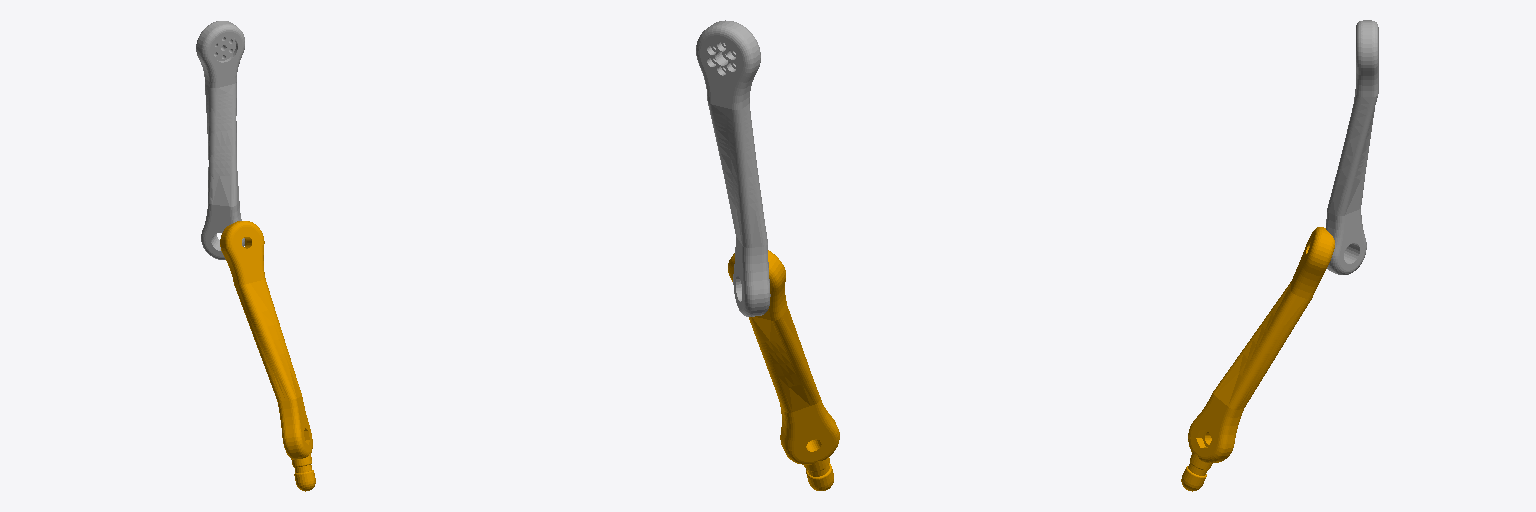
robot.urdf — robot:
<?xml version="1.0" encoding="utf-8"?>
<!-- =================================================================================== -->
<!-- |    This document was autogenerated by xacro from test.urdf.xacro                | -->
<!-- |    EDITING THIS FILE BY HAND IS NOT RECOMMENDED                                 | -->
<!-- =================================================================================== -->
<robot>
  <link name="base"/>
  <link name="0-xm430_0">
    <inertial>
      <origin rpy="0 0 0" xyz="-4.0773796e-3 -1.5304911e-2 -1.6871895e-2"/>
      <mass value="0.082"/>
      <inertia ixx="2.3729564e-5" ixy="-1.3079758e-7" ixz="-8.1403365e-8" iyy="1.3112295e-5" iyz="-1.9659314e-6" izz="2.0942871e-5"/>
    </inertial>
    <visual>
      <origin rpy="0.0 0.0 0.0" xyz="0.0 0.0 0.0"/>
      <geometry>
        <mesh filename="./mesh/general/XM430-simplified.stl" scale="0.001 0.001 0.001"/>
      </geometry>
    </visual>
    <collision>
      <origin rpy="0.0 0.0 0.0" xyz="0.0 0.0 0.0"/>
      <geometry>
        <mesh filename="./mesh/general/XM430-simplified.stl" scale="0.001 0.001 0.001"/>
      </geometry>
    </collision>
  </link>
  <link name="0-xm430_1">
    <inertial>
      <origin rpy="0 0 0" xyz="-4.0773796e-3 -1.5304911e-2 -1.6871895e-2"/>
      <mass value="0.082"/>
      <inertia ixx="2.3729564e-5" ixy="-1.3079758e-7" ixz="-8.1403365e-8" iyy="1.3112295e-5" iyz="-1.9659314e-6" izz="2.0942871e-5"/>
    </inertial>
    <visual>
      <origin rpy="0.0 0.0 0.0" xyz="0.0 0.0 0.0"/>
      <geometry>
        <mesh filename="./mesh/general/XM430-simplified.stl" scale="0.001 0.001 0.001"/>
      </geometry>
    </visual>
    <collision>
      <origin rpy="0.0 0.0 0.0" xyz="0.0 0.0 0.0"/>
      <geometry>
        <mesh filename="./mesh/general/XM430-simplified.stl" scale="0.001 0.001 0.001"/>
      </geometry>
    </collision>
  </link>
  <link name="0-xm430_2">
    <inertial>
      <origin rpy="0 0 0" xyz="-4.0773796e-3 -1.5304911e-2 -1.6871895e-2"/>
      <mass value="0.082"/>
      <inertia ixx="2.3729564e-5" ixy="-1.3079758e-7" ixz="-8.1403365e-8" iyy="1.3112295e-5" iyz="-1.9659314e-6" izz="2.0942871e-5"/>
    </inertial>
    <visual>
      <origin rpy="0.0 0.0 0.0" xyz="0.0 0.0 0.0"/>
      <geometry>
        <mesh filename="./mesh/general/XM430-simplified.stl" scale="0.001 0.001 0.001"/>
      </geometry>
    </visual>
    <collision>
      <origin rpy="0.0 0.0 0.0" xyz="0.0 0.0 0.0"/>
      <geometry>
        <mesh filename="./mesh/general/XM430-simplified.stl" scale="0.001 0.001 0.001"/>
      </geometry>
    </collision>
  </link>
  <link name="0-base_motor_frame">
    <inertial>
      <origin rpy="0 0 0" xyz="6.48e-08 -0.0015864406 0.0250889877"/>
      <mass value="0.0768049156"/>
      <inertia ixx="5.65659e-05" ixy="-0.0" ixz="1e-10" iyy="5.30145e-05" iyz="1.1663e-06" izz="3.40217e-05"/>
    </inertial>
    <visual>
      <origin rpy="0 0 0" xyz="0 0 0"/>
      <geometry>
        <mesh filename="./mesh/general/base_motor_frame_simplified.stl" scale="0.001 0.001 0.001"/>
      </geometry>
    </visual>
    <collision>
      <origin rpy="0 0 0" xyz="0 0 0"/>
      <geometry>
        <mesh filename="./mesh/general/base_motor_frame_simplified.stl" scale="0.001 0.001 0.001"/>
      </geometry>
    </collision>
  </link>
  <link name="0-dual_servo_shell">
    <inertial>
      <origin rpy="0 0 0" xyz="0.0005322566 -0.0003161331 0.0506920676"/>
      <mass value="0.0258069457"/>
      <inertia ixx="4.11451e-05" ixy="7.82e-08" ixz="-7.721e-07" iyy="4.42386e-05" iyz="2.774e-07" izz="4.8477e-06"/>
    </inertial>
    <visual>
      <origin rpy="0.0 0.0 0.0" xyz="0.0 0.0 0.0"/>
      <geometry>
        <mesh filename="./mesh/general/dual_servo_shell_simplified.stl" scale="0.001 0.001 0.001"/>
      </geometry>
    </visual>
    <collision>
      <origin rpy="0.0 0.0 0.0" xyz="0.0 0.0 0.0"/>
      <geometry>
        <mesh filename="./mesh/general/dual_servo_shell_simplified.stl" scale="0.001 0.001 0.001"/>
      </geometry>
    </collision>
  </link>
  <link name="0-dual_servo_transmission">
    <inertial>
      <origin rpy="0 0 0" xyz="-1.41e-08 0.0095354556 0.0141401617"/>
      <mass value="0.0576887165"/>
      <inertia ixx="2.78223e-05" ixy="5.7e-09" ixz="-0.0" iyy="1.35978e-05" iyz="4.5419e-06" izz="2.50167e-05"/>
    </inertial>
    <visual>
      <origin rpy="0.0 0.0 0.0" xyz="0.0 0.0 0.0"/>
      <geometry>
        <mesh filename="./mesh/general/dual_servo_transmission_simplified.obj" scale="0.001 0.001 0.001"/>
      </geometry>
    </visual>
    <collision>
      <origin rpy="0.0 0.0 0.0" xyz="0.0 0.0 0.0"/>
      <geometry>
        <mesh filename="./mesh/general/dual_servo_transmission_simplified.obj" scale="0.001 0.001 0.001"/>
      </geometry>
    </collision>
  </link>
  <link name="0-finger1">
    <inertial>
      <origin rpy="0 0 0" xyz="-6.4e-09 -0.0610694502 -0.0053233788"/>
      <mass value="0.0310236604"/>
      <inertia ixx="5.41624e-05" ixy="0.0" ixz="0.0" iyy="3.7791e-06" iyz="-1.06309e-05" izz="5.14868e-05"/>
    </inertial>
    <visual>
      <origin rpy="0.0 0.0 0.0" xyz="0.0 0.0 0.0"/>
      <geometry>
        <mesh filename="./mesh/spherical/finger1_right.obj" scale="0.001 0.001 0.001"/>
      </geometry>
    </visual>
    <collision>
      <origin rpy="0.0 0.0 0.0" xyz="0.0 0.0 0.0"/>
      <geometry>
        <mesh filename="./mesh/spherical/finger1_right.obj" scale="0.001 0.001 0.001"/>
      </geometry>
    </collision>
  </link>
  <link name="0-finger2">
    <inertial>
      <origin rpy="0 0 0" xyz="1.92e-07 -0.0535210834 0.0135841761"/>
      <mass value="0.0223716756"/>
      <inertia ixx="3.66887e-05" ixy="1.3e-09" ixz="-2e-10" iyy="2.333e-06" iyz="7.1536e-06" izz="3.52462e-05"/>
    </inertial>
    <visual>
      <origin rpy="0.0 0.0 0.0" xyz="0.0 0.0 0.0"/>
      <geometry>
        <mesh filename="./mesh/spherical/finger2_right.obj" scale="0.001 0.001 0.001"/>
      </geometry>
    </visual>
    <collision>
      <origin rpy="0.0 0.0 0.0" xyz="0.0 0.0 0.0"/>
      <geometry>
        <mesh filename="./mesh/spherical/finger2_right.obj" scale="0.001 0.001 0.001"/>
      </geometry>
    </collision>
  </link>
  <!--Create joints to connect the parts-->
  <!--Fix the module to module parent link-->
  <joint name="0-module_to_parent" type="fixed">
    <parent link="base"/>
    <child link="0-base_motor_frame"/>
    <origin rpy="0 3.14159265 0" xyz="0 0 0.2"/>
  </joint>
  <!--Fix the parts which are not supposed to move-->
  <joint name="0-fix_xm430_0" type="fixed">
    <parent link="0-base_motor_frame"/>
    <child link="0-xm430_0"/>
    <origin rpy="0 0 0" xyz="0 0 0.054"/>
  </joint>
  <joint name="0-fix_xm430_1" type="fixed">
    <parent link="0-dual_servo_shell"/>
    <child link="0-xm430_1"/>
    <origin rpy="-1.570796325 0 0" xyz="0 0.019 0.0334"/>
  </joint>
  <joint name="0-fix_xm430_2" type="fixed">
    <parent link="0-xm430_1"/>
    <child link="0-xm430_2"/>
    <origin rpy="0 0 0" xyz="0 -0.0465 0"/>
  </joint>
  <joint name="0-fix_transmission" type="fixed">
    <parent link="0-xm430_2"/>
    <child link="0-dual_servo_transmission"/>
    <origin rpy="0 0 0" xyz="0 0 0"/>
  </joint>
  <!--DoFs, joints corresponding to the degrees of actuation-->
  <joint name="0-dof1" type="revolute">
    <parent link="0-xm430_0"/>
    <child link="0-dual_servo_shell"/>
    <axis xyz="0 0 -1"/>
    <limit effort="1000" lower="-3.14159265" upper="3.14159265" velocity="1000"/>
    <origin rpy="0 0 0" xyz="0 0 0"/>
  </joint>
  <joint name="0-dof2" type="revolute">
    <parent link="0-xm430_2"/>
    <child link="0-finger1"/>
    <axis xyz="0 0 -1"/>
    <limit effort="1000" lower="-1.570796325" upper="1.570796325" velocity="1000"/>
    <origin rpy="0 0 0" xyz="0 0 0.0388"/>
  </joint>
  <joint name="0-dof3" type="revolute">
    <parent link="0-finger1"/>
    <child link="0-finger2"/>
    <axis xyz="0 0 1"/>
    <limit effort="1000" lower="-2.3561944875" upper="2.3561944875" velocity="1000"/>
    <origin rpy="0.3876 0 0" xyz="0.0 -0.097137 -0.021064"/>
  </joint>
  <!--frames that may be helpful-->
  <link name="0-fingertip_frame">
    <geometry>
      <origin rpy="0 0 0" xyz="0 0 0"/>
    </geometry>
  </link>
  <joint name="0-fingertip_frame_fix" type="fixed">
    <parent link="0-finger2"/>
    <child link="0-fingertip_frame"/>
    <origin rpy="0 0 0" xyz="0 -0.12478 -0.034789"/>
  </joint>
</robot>

--- Render facts (derived) ---
Views: 3 orthographic renders of the robot side by side, from view 1: azimuth 30°, elevation 25°; view 2: azimuth 150°, elevation 25°; view 3: azimuth 270°, elevation 25°.
Model robot with 10 links and 9 joints (3 revolute, 6 fixed), rooted at base, posed every joint at zero.
Links seen in each view (by area): view 1: 0-finger2, 0-finger1; view 2: 0-finger1, 0-finger2; view 3: 0-finger2, 0-finger1.
Boxes of the visible links, x1,y1,x2,y2 form: 0-finger2: (220,221,315,491); 0-finger1: (196,21,244,259); 0-finger1: (696,20,770,316); 0-finger2: (728,250,839,490); 0-finger2: (1181,227,1334,491); 0-finger1: (1326,20,1378,274).
Bounding box of the posed robot: 0.0286 × 0.087 × 0.2256 m (x, y, z).
Meshes: 6 distinct files referenced, 2 mesh visuals loaded (2 OBJ); not drawn: 6 (reference not matched to a file when rendering).